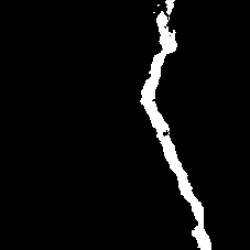crack: (141, 1, 213, 249)
